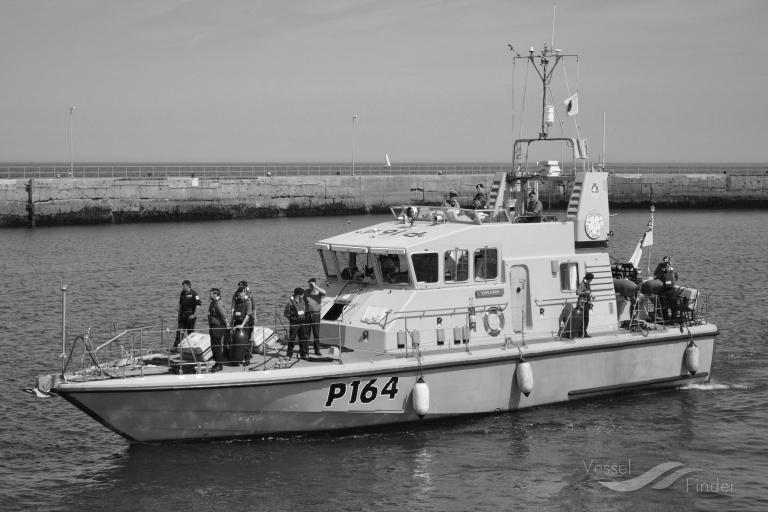OCR: (309, 377, 408, 414)
